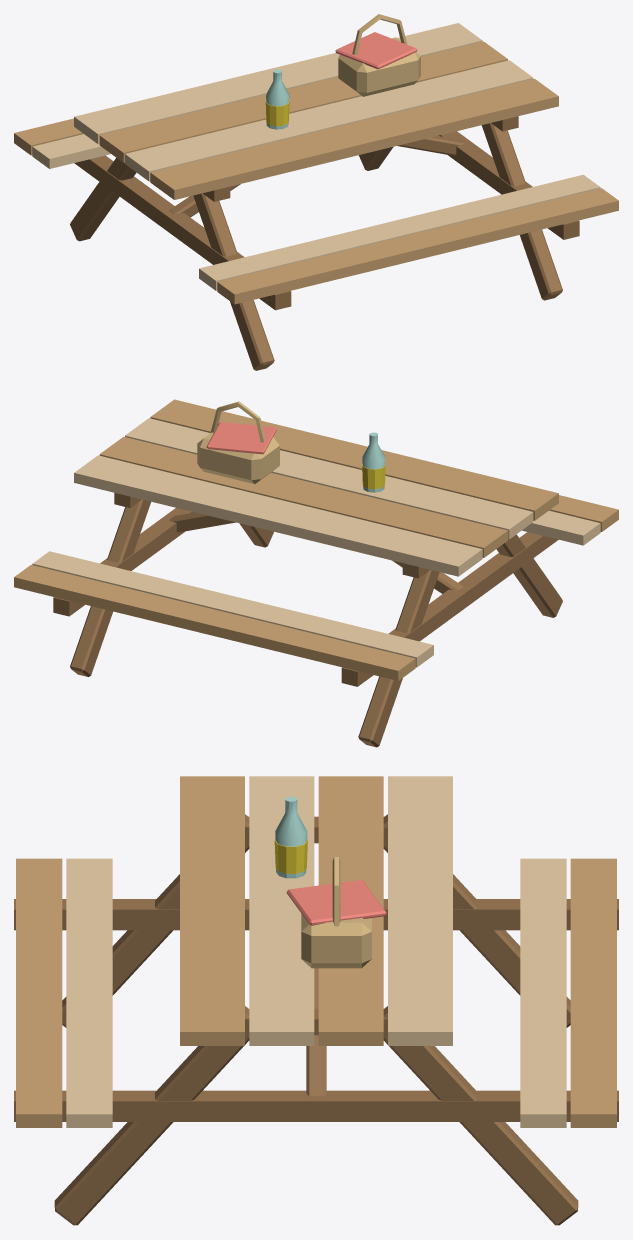
Rendered from furn_picnic_table.glb.
3 views of the same model, one above another, from view 1: azimuth 30°, elevation 25°; view 2: azimuth 150°, elevation 25°; view 3: azimuth 270°, elevation 25° (orthographic). The views are drawn at different scales.
Parts seen in each view (by area): view 1: furn_picnic_table_body; view 2: furn_picnic_table_body; view 3: furn_picnic_table_body.
Boxes of the visible parts, x1,y1,x2,y2 form: furn_picnic_table_body: (14,14,618,370); furn_picnic_table_body: (14,399,618,747); furn_picnic_table_body: (14,776,618,1225).
Bounding box in the file's own units: 1.2 × 0.6919 × 1.2.
